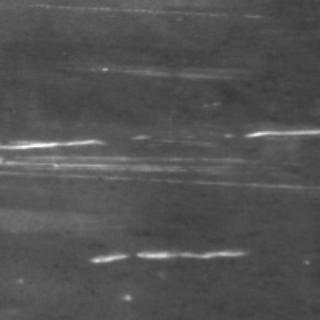scratches: (5, 138, 313, 184), (86, 242, 250, 268), (242, 120, 318, 140)
